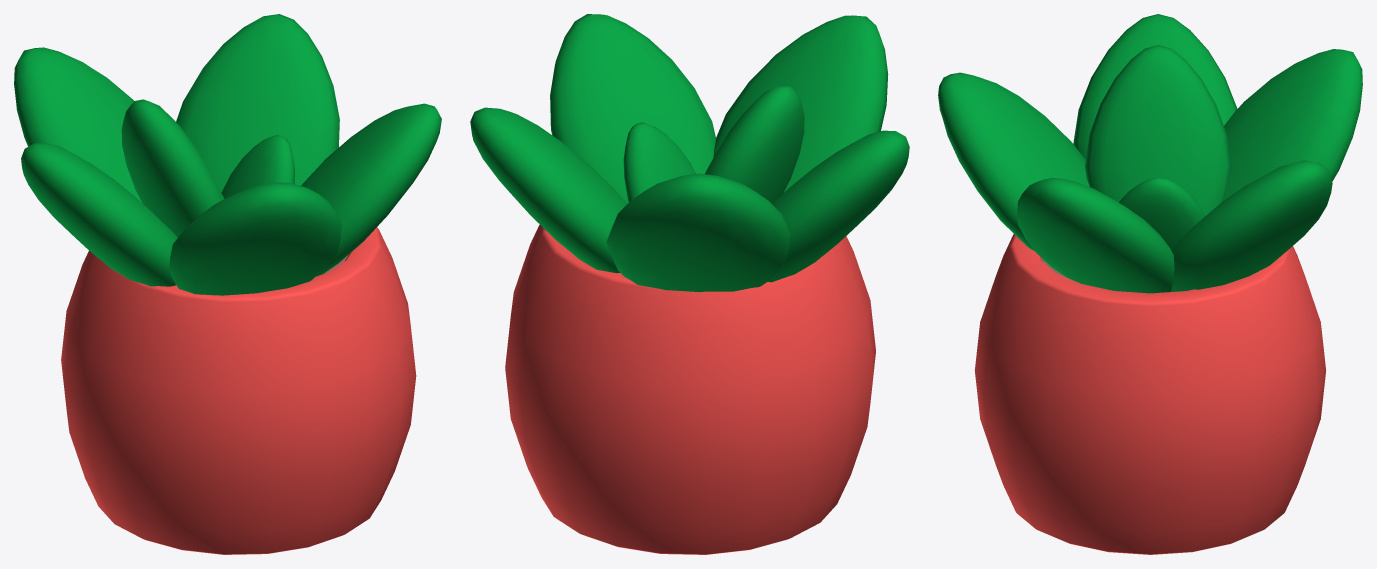
File: City_12_Plant_2.glb
3 renders of one model, left to right at view 1: azimuth 30°, elevation 25°; view 2: azimuth 150°, elevation 25°; view 3: azimuth 270°, elevation 25°, orthographic. The views are drawn at different scales.
Parts seen in each view (by area): view 1: City_12_Plant_2; view 2: City_12_Plant_2; view 3: City_12_Plant_2.
Part boxes in pixels (left/top/right/bottom): City_12_Plant_2: left=14, top=14, right=441, bottom=554; City_12_Plant_2: left=470, top=14, right=909, bottom=554; City_12_Plant_2: left=938, top=14, right=1362, bottom=554.
Bounding box in the file's own units: 0.7541 × 0.8167 × 0.7724.
1 material, 1 textured.
